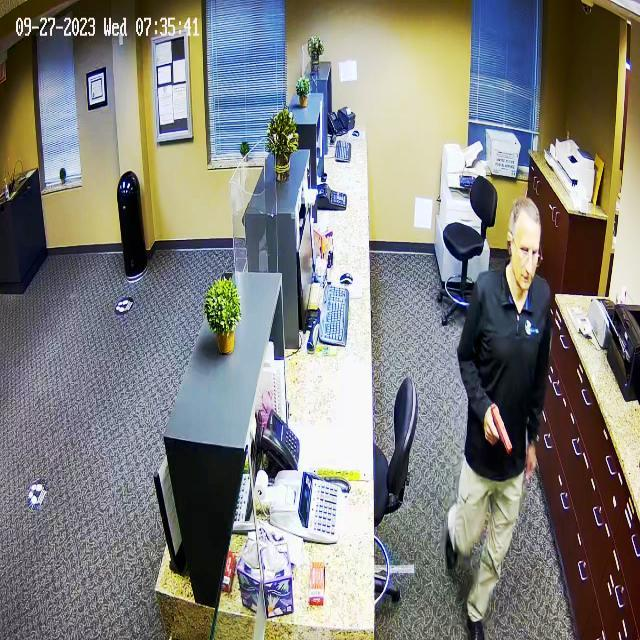Gun: (473, 394, 517, 464)
